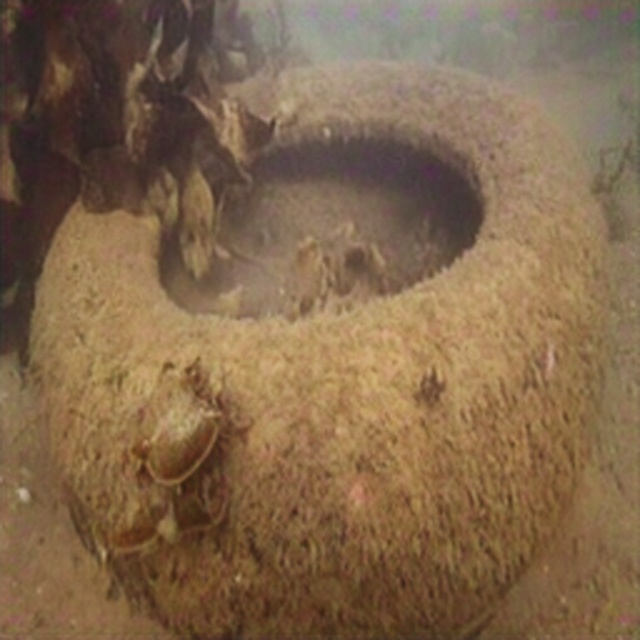mine: (29, 57, 610, 639)
